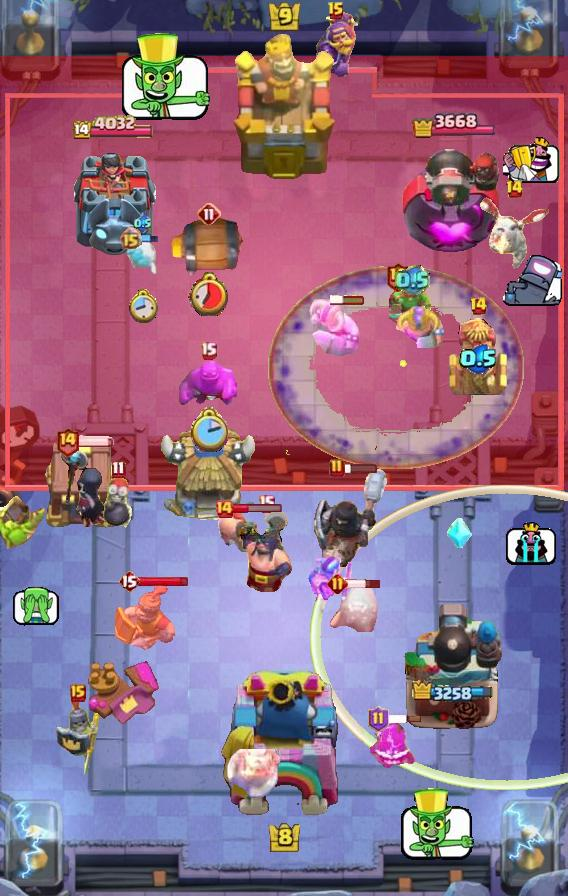bat: (123, 237, 161, 277)
bomb: (40, 436, 120, 530)
earthquake: (115, 581, 175, 651)
electro-spirit: (458, 344, 497, 374), (394, 265, 430, 295), (133, 216, 151, 232)
elixir: (188, 272, 231, 316), (188, 408, 227, 453), (127, 287, 157, 323)
emote: (138, 576, 189, 589), (232, 502, 283, 513), (77, 435, 115, 447), (345, 578, 383, 590), (330, 294, 366, 306), (342, 462, 378, 474), (386, 714, 422, 724), (141, 232, 160, 244)
executioner: (217, 508, 263, 552)
firecracker-evolution: (314, 11, 358, 79)
giant-snowball: (307, 556, 355, 608), (389, 276, 435, 324)
goblin-brawler: (447, 316, 509, 400)
goblin-giant: (308, 299, 362, 357), (396, 304, 445, 347)
ice-golem: (101, 476, 135, 532)
inferno-dragon: (310, 466, 392, 576)
king-tower: (219, 670, 349, 826), (231, 35, 337, 182)
mini-pekka: (477, 193, 551, 273)
monk: (237, 507, 295, 593)
pad_2: (447, 518, 473, 550)
prince: (158, 429, 260, 525)
princess: (54, 694, 102, 776)
queen-tower: (71, 144, 157, 255)
rascal-boy: (59, 444, 109, 532)
rocket: (268, 266, 524, 470)
royal-giant: (225, 749, 281, 799)
selected: (413, 110, 496, 142), (72, 114, 155, 141), (413, 679, 496, 704)
skeleton: (117, 32, 215, 126), (398, 788, 478, 864), (502, 255, 563, 308), (504, 137, 561, 183), (505, 519, 557, 566), (11, 586, 60, 625)
spear-goblin: (367, 721, 419, 775)
tesla: (326, 580, 378, 632)
text: (385, 261, 410, 292), (55, 427, 80, 458), (197, 202, 221, 226), (367, 706, 389, 732), (118, 226, 141, 250), (118, 569, 140, 593), (327, 574, 348, 595), (214, 499, 234, 519), (505, 179, 524, 199), (468, 296, 487, 316), (327, 1, 345, 21), (199, 341, 217, 359), (257, 495, 275, 513), (329, 458, 345, 478), (70, 684, 86, 702), (110, 461, 125, 480)
the-log: (169, 218, 249, 278)
tornado: (179, 360, 237, 406)
tower-bar: (403, 601, 503, 731), (401, 138, 505, 256)
x-bow: (0, 494, 46, 550)
